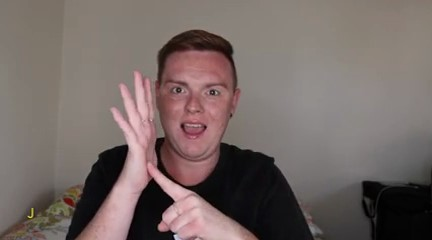J: (103, 70, 221, 240)
